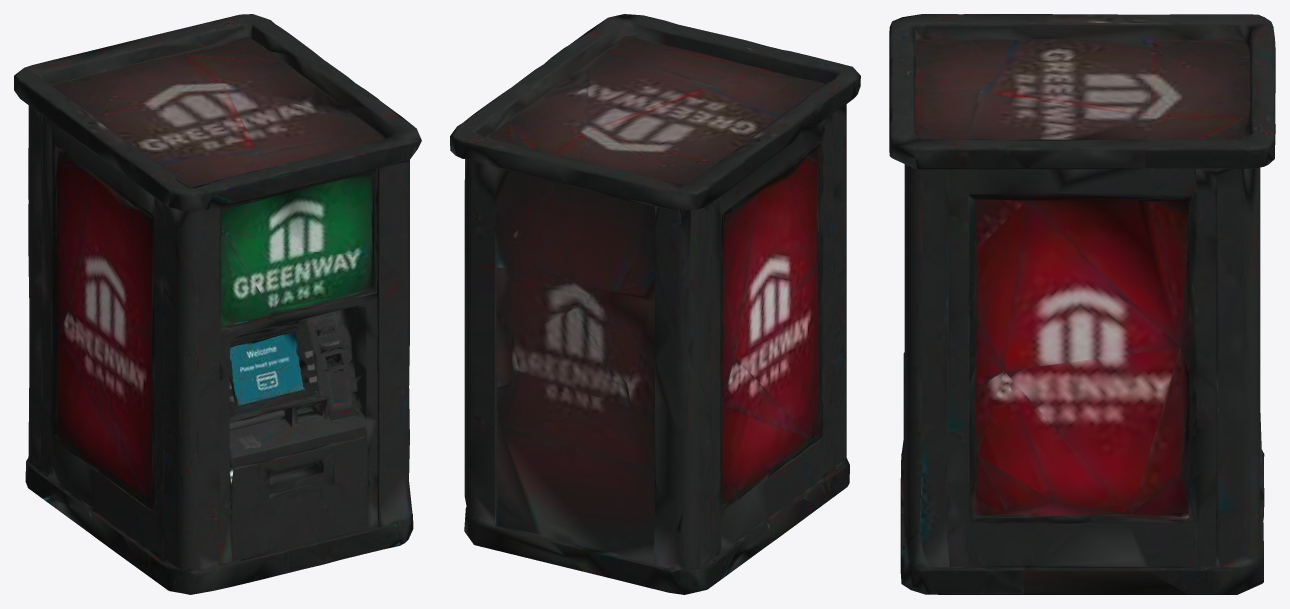
File: atm_kiosk.glb
3 views of the same model, side by side, from view 1: azimuth 30°, elevation 25°; view 2: azimuth 150°, elevation 25°; view 3: azimuth 270°, elevation 25° (orthographic). The views are drawn at different scales.
Bounding box in the file's own units: 123 × 190 × 148.
Materials: 1 (1 with a texture image).
